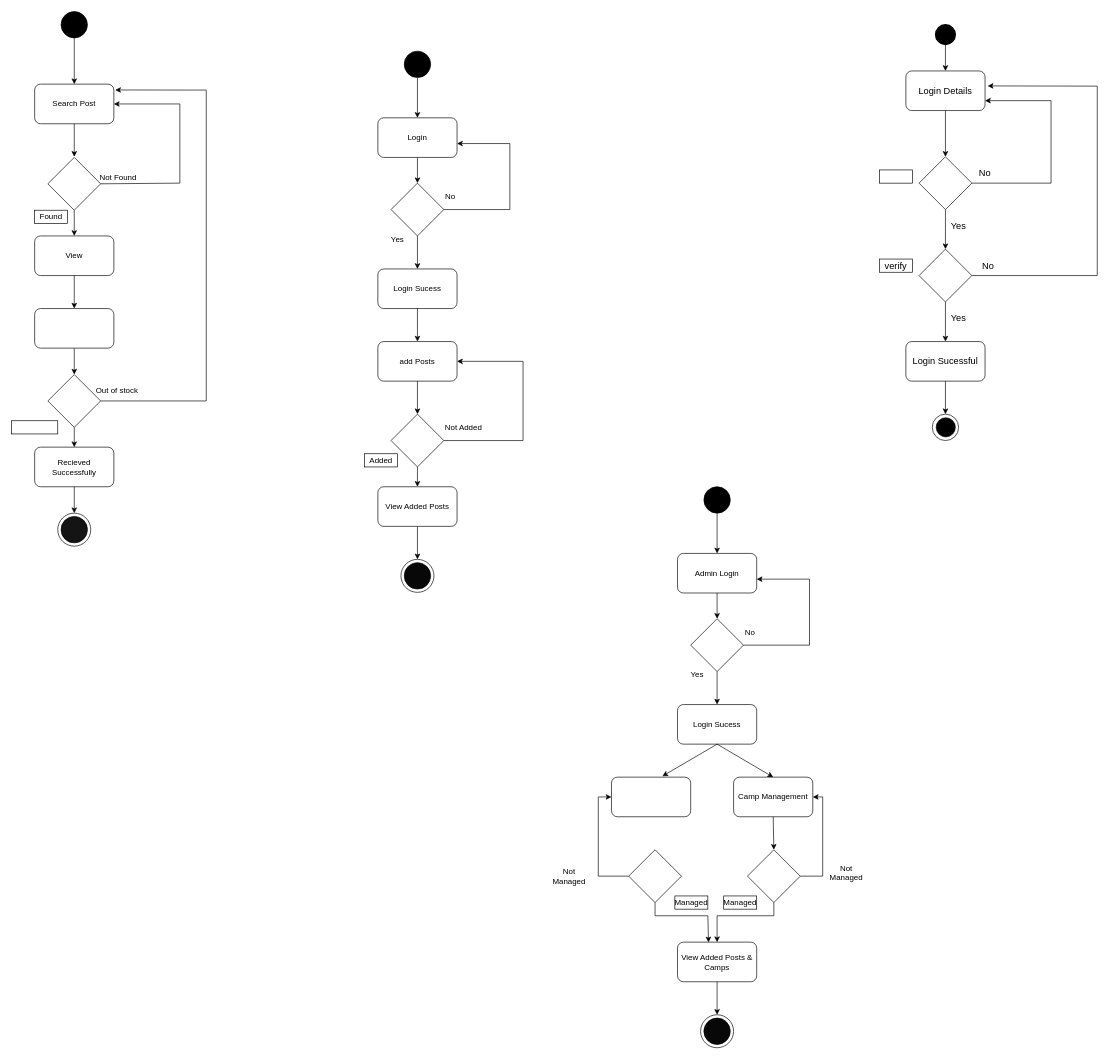
This 1114x1059 diagram has some shape labels left out. The centre of each missing label's shape, as x and y in pixels:
"Blood Bank Management" belongs at point (651, 796).
"Contact" belongs at point (74, 328).
"Sucessfully" belongs at point (34, 427).
"valid" belongs at point (895, 176).
